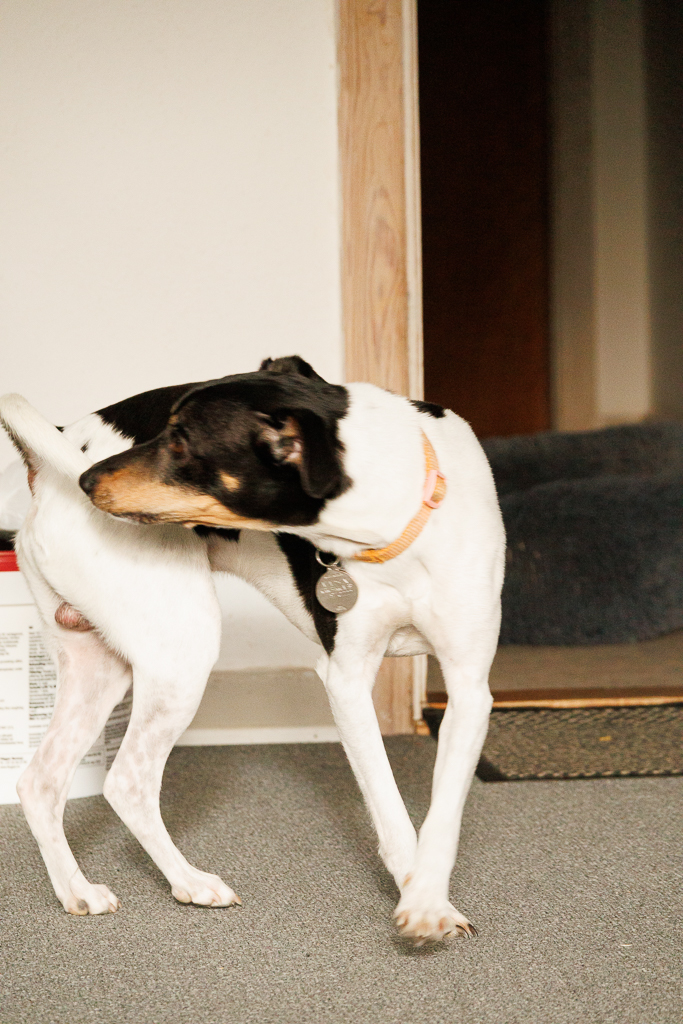Dog: (0, 345, 520, 970)
